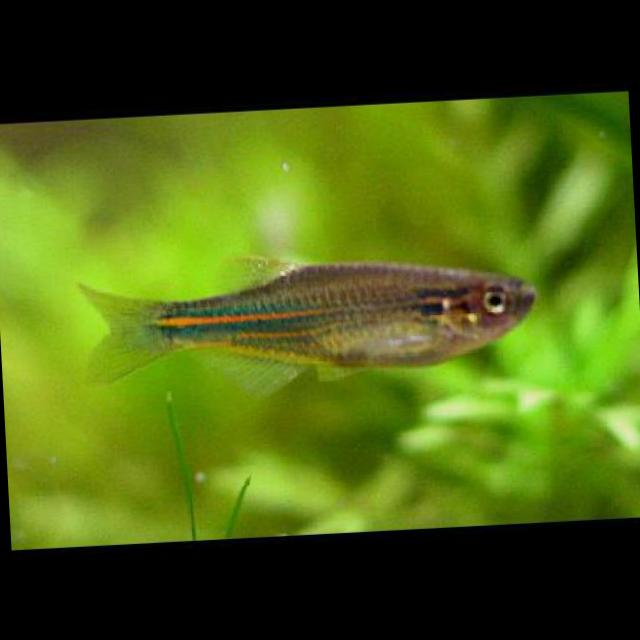ZebraFish: (74, 247, 538, 385)
